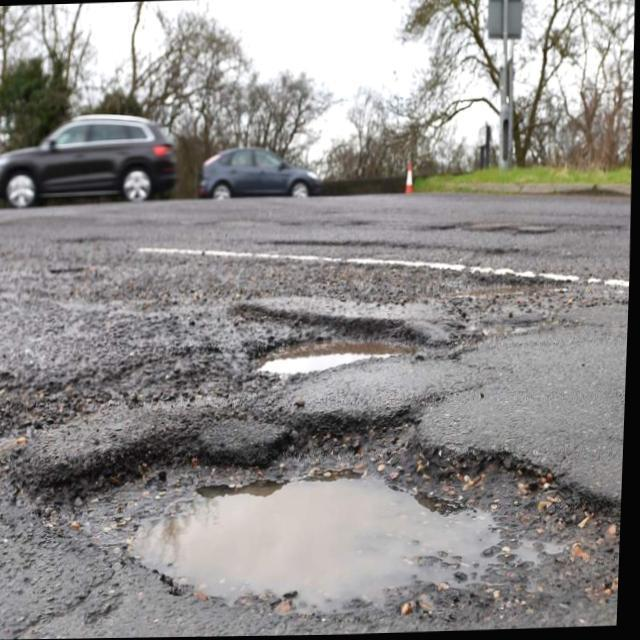Pothole: (4, 391, 621, 634), (208, 289, 585, 385)
